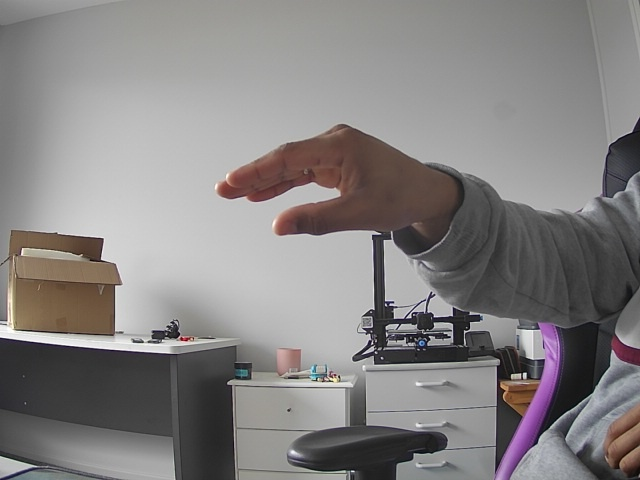No: (195, 114, 474, 262)
